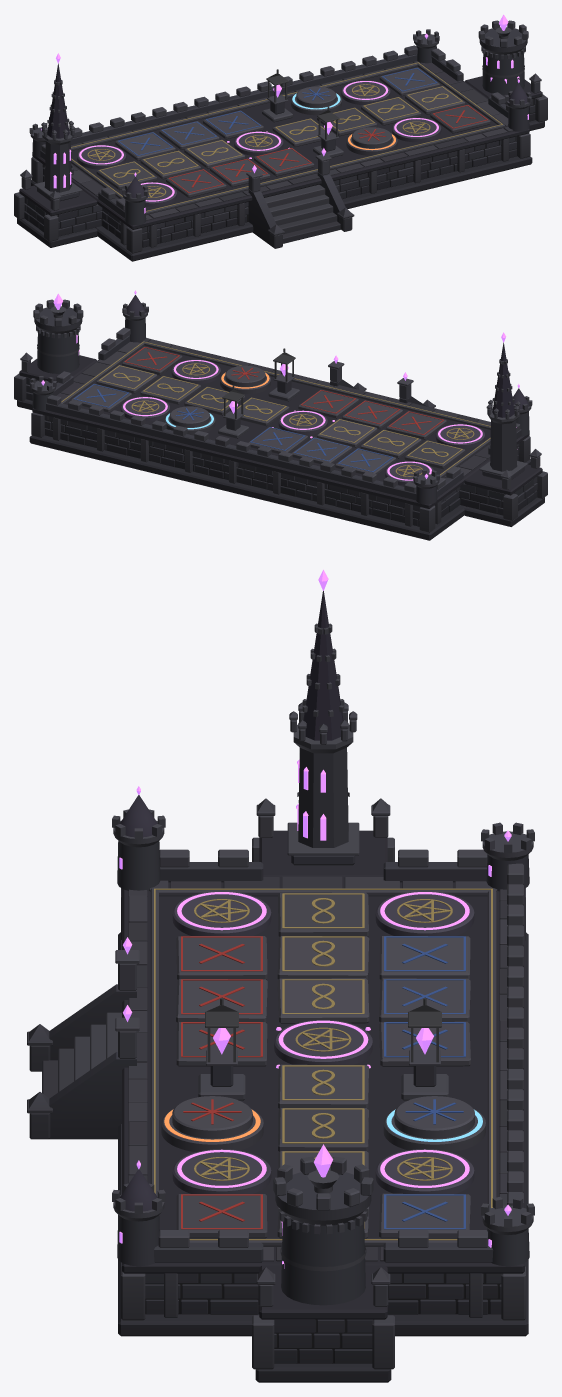
The model's file is board.glb.
The picture shows the model from 3 angles, top to bottom: view 1: azimuth 30°, elevation 25°; view 2: azimuth 150°, elevation 25°; view 3: azimuth 270°, elevation 25°; orthographic projection. The views are drawn at different scales.
Visible parts, largest first — view 1: board_stone, board_glow_violet, board_iron; view 2: board_stone, board_glow_violet, board_iron; view 3: board_stone, board_glow_violet, board_iron.
Boxes of the visible parts, bbox=[...] form: board_stone: bbox=[14, 20, 547, 261]; board_glow_violet: bbox=[41, 14, 528, 213]; board_iron: bbox=[266, 69, 339, 139]; board_stone: bbox=[14, 295, 547, 540]; board_glow_violet: bbox=[41, 290, 519, 480]; board_iron: bbox=[222, 348, 295, 418]; board_stone: bbox=[27, 591, 534, 1382]; board_glow_violet: bbox=[119, 569, 511, 1268]; board_iron: bbox=[205, 997, 441, 1062].
Bounding box in the file's own units: 6.12 × 2.08 × 2.7.
